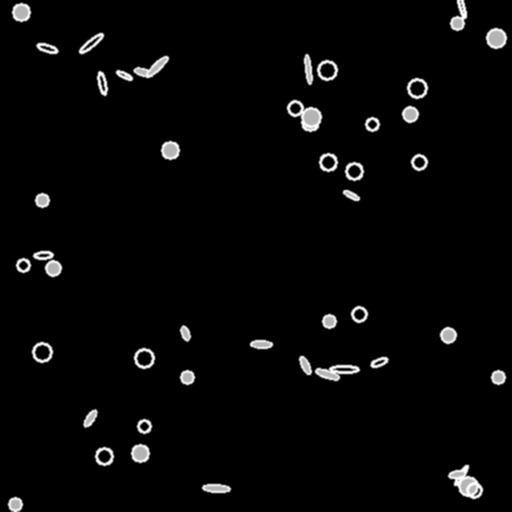pseudomonas: (145, 54, 169, 78), (78, 32, 104, 54), (314, 367, 340, 381), (453, 464, 469, 486), (298, 355, 312, 375), (96, 72, 108, 94), (83, 409, 97, 427), (37, 42, 57, 54), (133, 66, 153, 78), (329, 365, 359, 373), (455, 0, 467, 19), (304, 55, 312, 83), (370, 356, 388, 368), (115, 69, 133, 81), (203, 484, 229, 492), (343, 189, 359, 201), (180, 325, 190, 341), (449, 469, 465, 479), (250, 341, 272, 347), (34, 252, 52, 258)
synechocystis: (408, 79, 426, 97), (33, 343, 51, 361), (487, 29, 505, 47), (459, 477, 477, 495), (135, 349, 153, 367), (318, 61, 336, 79), (302, 108, 320, 126), (162, 142, 178, 158), (13, 4, 29, 20), (302, 114, 318, 130), (132, 445, 148, 461), (320, 154, 336, 170), (346, 163, 362, 179), (96, 448, 112, 464), (288, 101, 302, 115), (412, 155, 426, 169), (352, 307, 366, 321), (403, 107, 417, 121), (46, 261, 60, 275), (467, 483, 481, 497), (441, 328, 455, 342), (138, 420, 150, 432), (17, 259, 29, 271), (9, 498, 21, 510), (366, 118, 378, 130), (492, 371, 504, 383), (181, 371, 193, 383), (323, 315, 335, 327), (451, 17, 463, 29), (36, 194, 48, 206)
